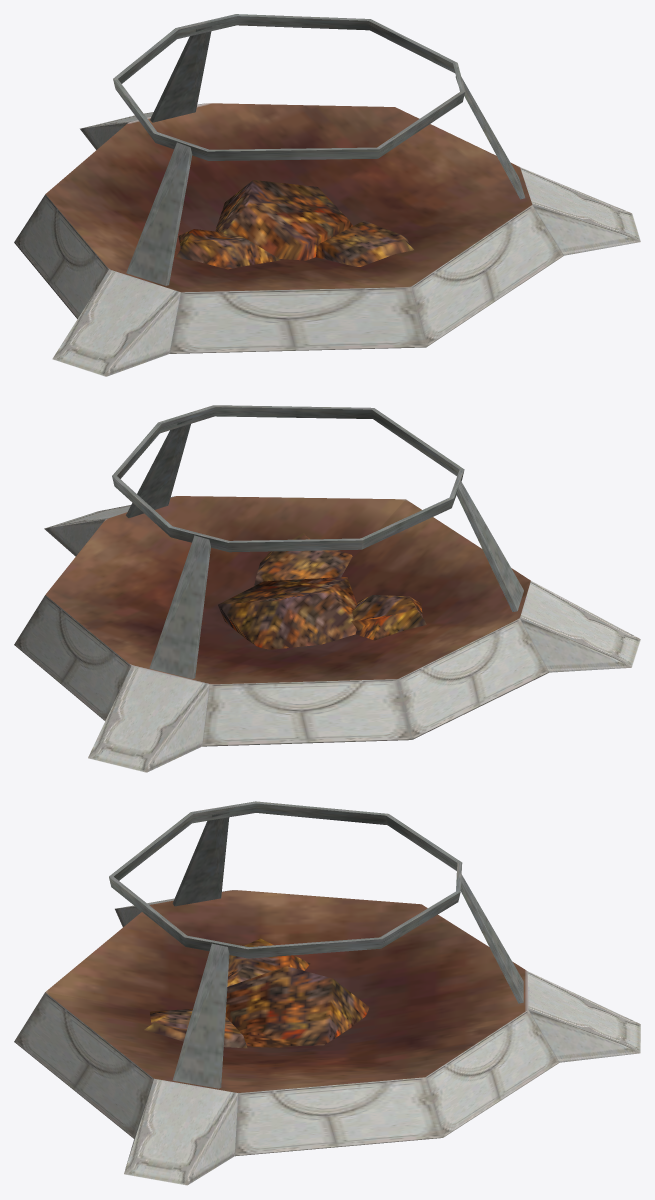
The model's file is thm_corl_fountain_brazier_round_s01_l3.fbx.
3 views of the same model, one above another, from view 1: azimuth 30°, elevation 25°; view 2: azimuth 150°, elevation 25°; view 3: azimuth 270°, elevation 25° (orthographic).
Parts seen in each view (by area): view 1: mesh_node; view 2: mesh_node; view 3: mesh_node.
Part boxes in pixels (<box>): mesh_node: <box>14,14,640,376</box>; mesh_node: <box>14,405,640,772</box>; mesh_node: <box>14,801,640,1185</box>.
Size of the model in its own units: 9.68 by 2.59 by 8.91.
Materials: 1 (1 with a texture image).
